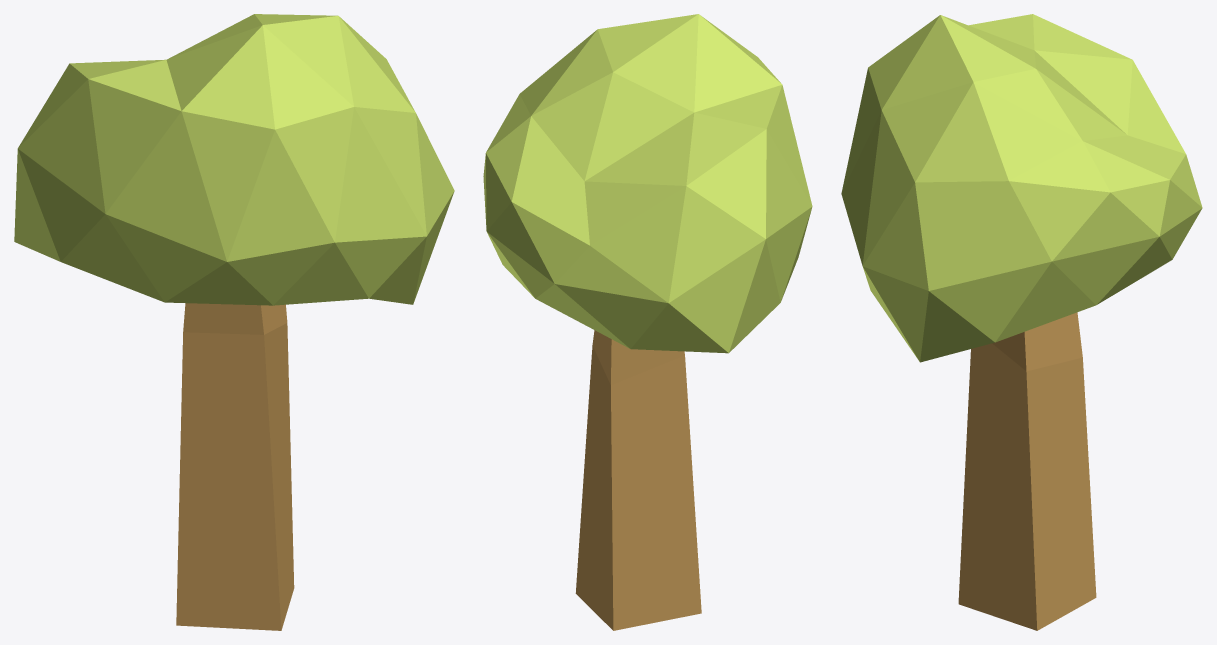
The model's file is Tree_4.glb.
3 views of the same model, side by side, from view 1: azimuth 30°, elevation 25°; view 2: azimuth 150°, elevation 25°; view 3: azimuth 270°, elevation 25° (orthographic). The views are drawn at different scales.
Parts seen in each view (by area): view 1: Tree_4; view 2: Tree_4; view 3: Tree_4.
Part boxes in pixels (bbox=[...]): Tree_4: bbox=[14, 14, 454, 630]; Tree_4: bbox=[483, 14, 812, 630]; Tree_4: bbox=[841, 14, 1202, 630].
Bounding box in the file's own units: 4.95 × 8.52 × 4.82.
